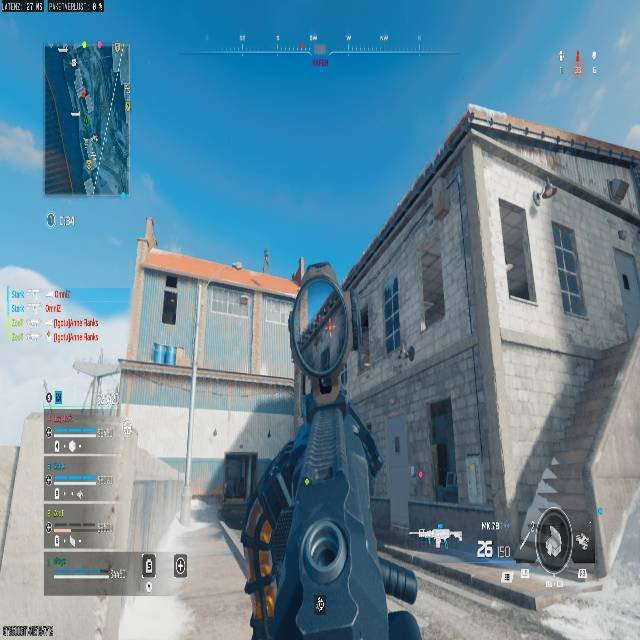player: (291, 288, 343, 398)
